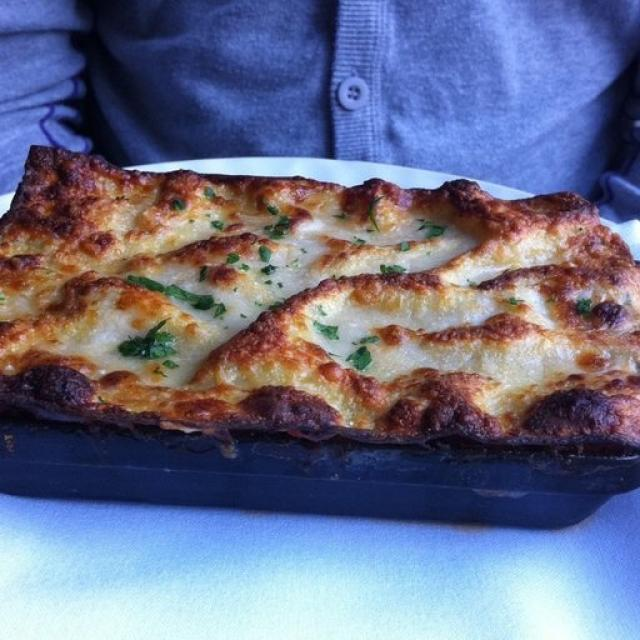Lasagna: (20, 130, 640, 515)
